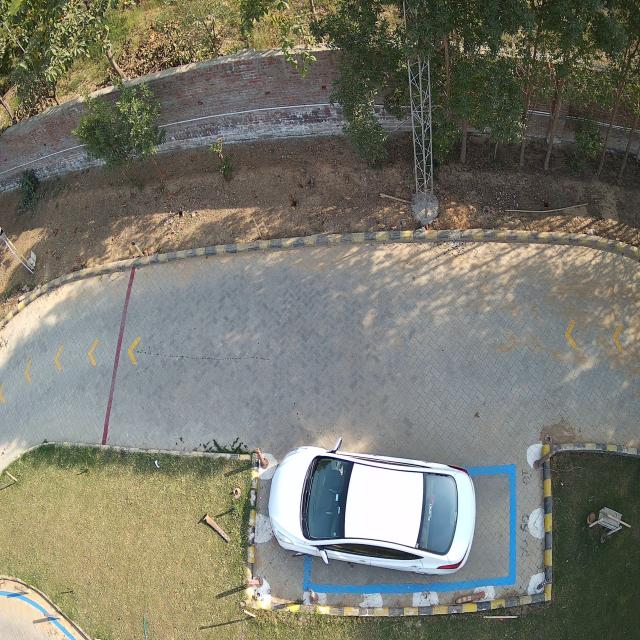car: (269, 447, 475, 575)
